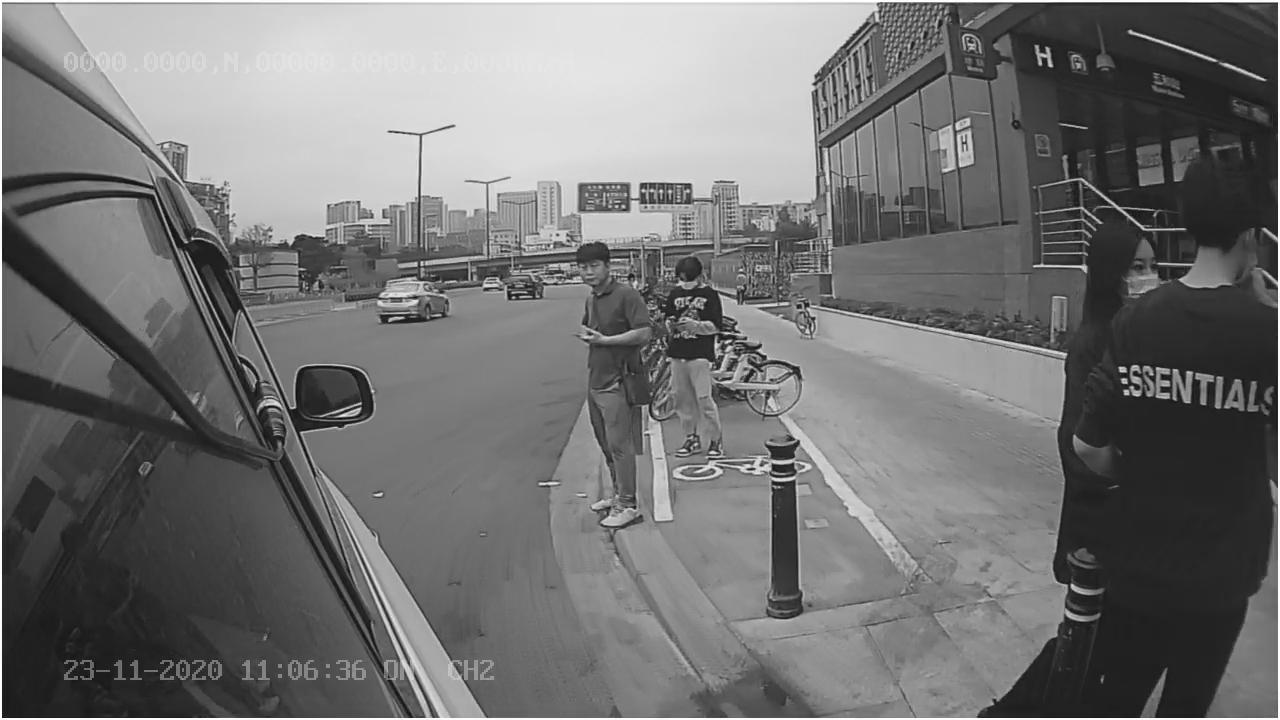person: (565, 236, 659, 535)
